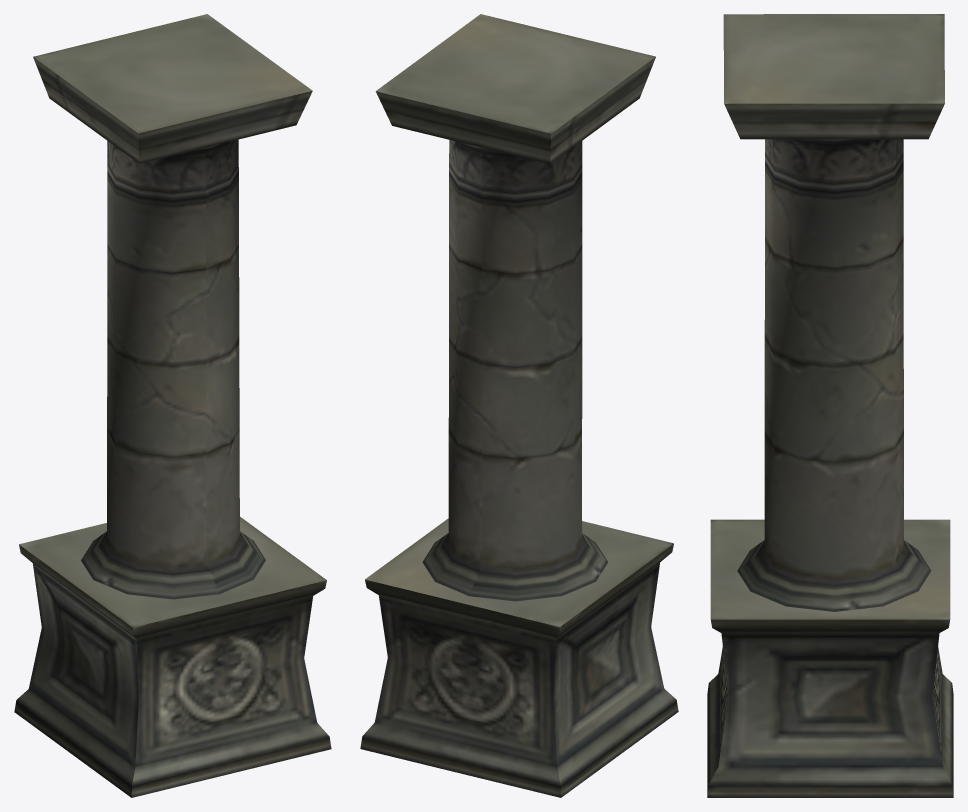
Rendered from DN_1_4_ldao04.FBX.
3 views of the same model, side by side, from view 1: azimuth 30°, elevation 25°; view 2: azimuth 150°, elevation 25°; view 3: azimuth 270°, elevation 25° (orthographic). The views are drawn at different scales.
Parts seen in each view (by area): view 1: DN_1_4_ldao04; view 2: DN_1_4_ldao04; view 3: DN_1_4_ldao04.
Boxes of the visible parts, x1,y1,x2,y2 form: DN_1_4_ldao04: [14, 14, 331, 797]; DN_1_4_ldao04: [360, 14, 678, 797]; DN_1_4_ldao04: [707, 14, 953, 797].
Bounding box in the file's own units: 144 × 452 × 146.
